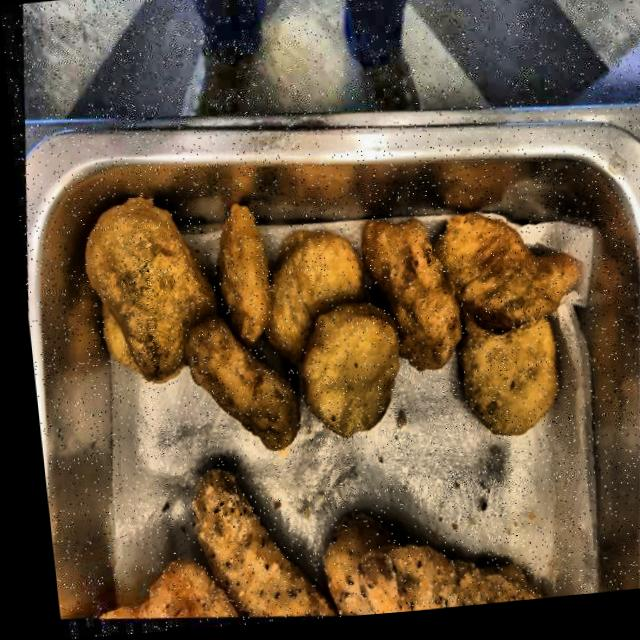Food: (57, 161, 594, 487)
